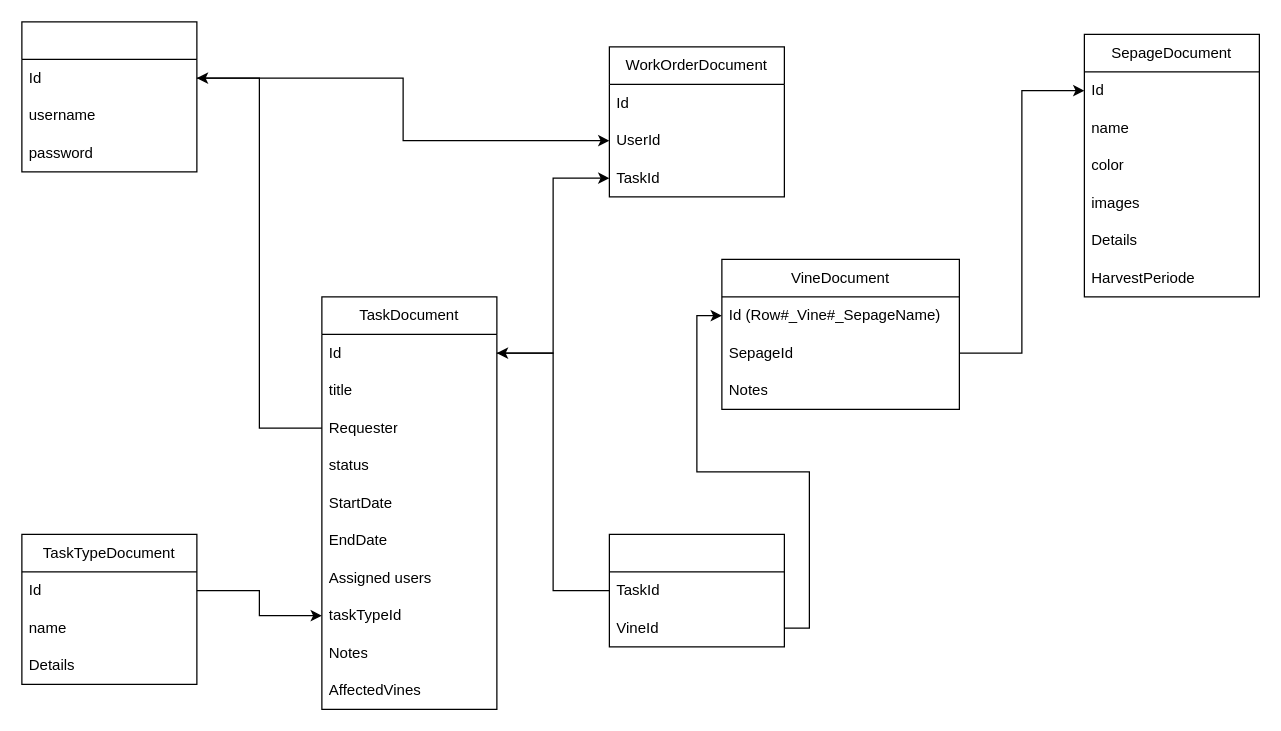
This 1281x731 diagram has some shape labels left out. Each missing label, with the box of its shape:
TaskVineDocument: (608, 533, 784, 647)
UserDcument: (21, 21, 197, 172)
